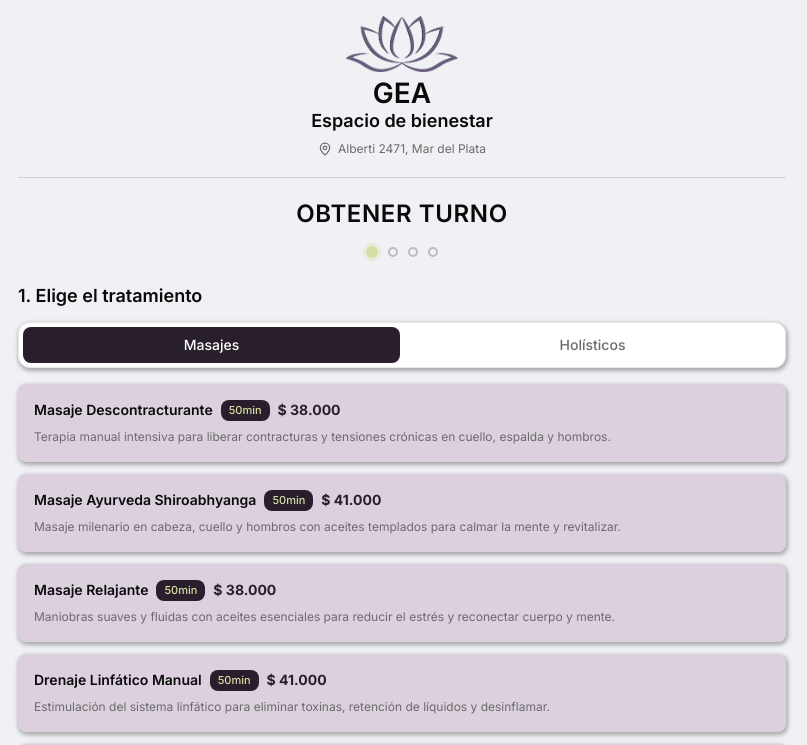
Test: Componente BookingFlow (Interacción de Usuario) › Debe filtrar por categoría Masajes y Holísticos
What coordinates should you click on to do the following:
click the button "Holísticos"
I would click on:
 (592, 345)
Its box is top-left (404, 327), bottom-right (781, 363).
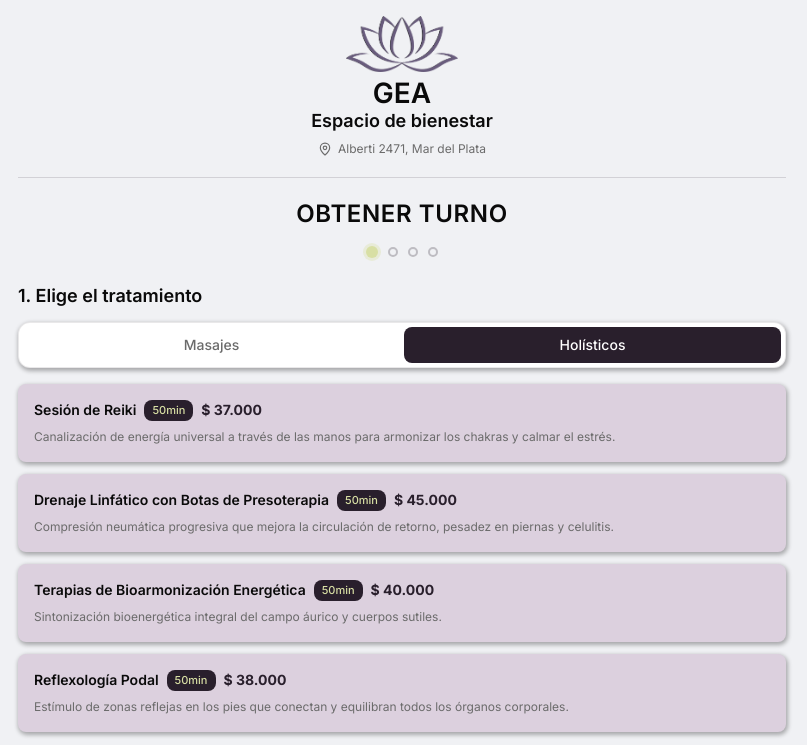
Result: the heading "Sesión de Reiki" is shown at top-left (34, 400), bottom-right (136, 420)
